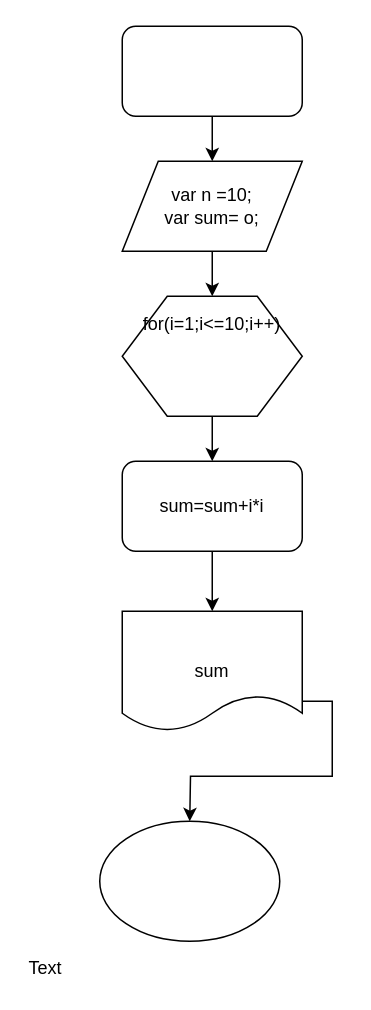
Some shapes in this 371 by 1010 pixel diagram are drawn without their labels. The shapes that lost their labels are listed below. From the top down, each one's centre as x and y in pixels, then its label:
At point (211, 70): "BASLA".
At point (189, 880): "SON".
